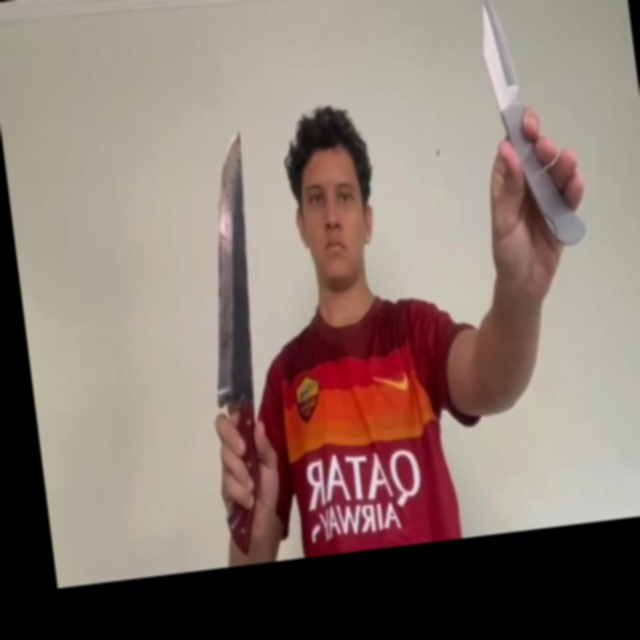Sharp-Object: (183, 131, 274, 401), (474, 0, 521, 102)
